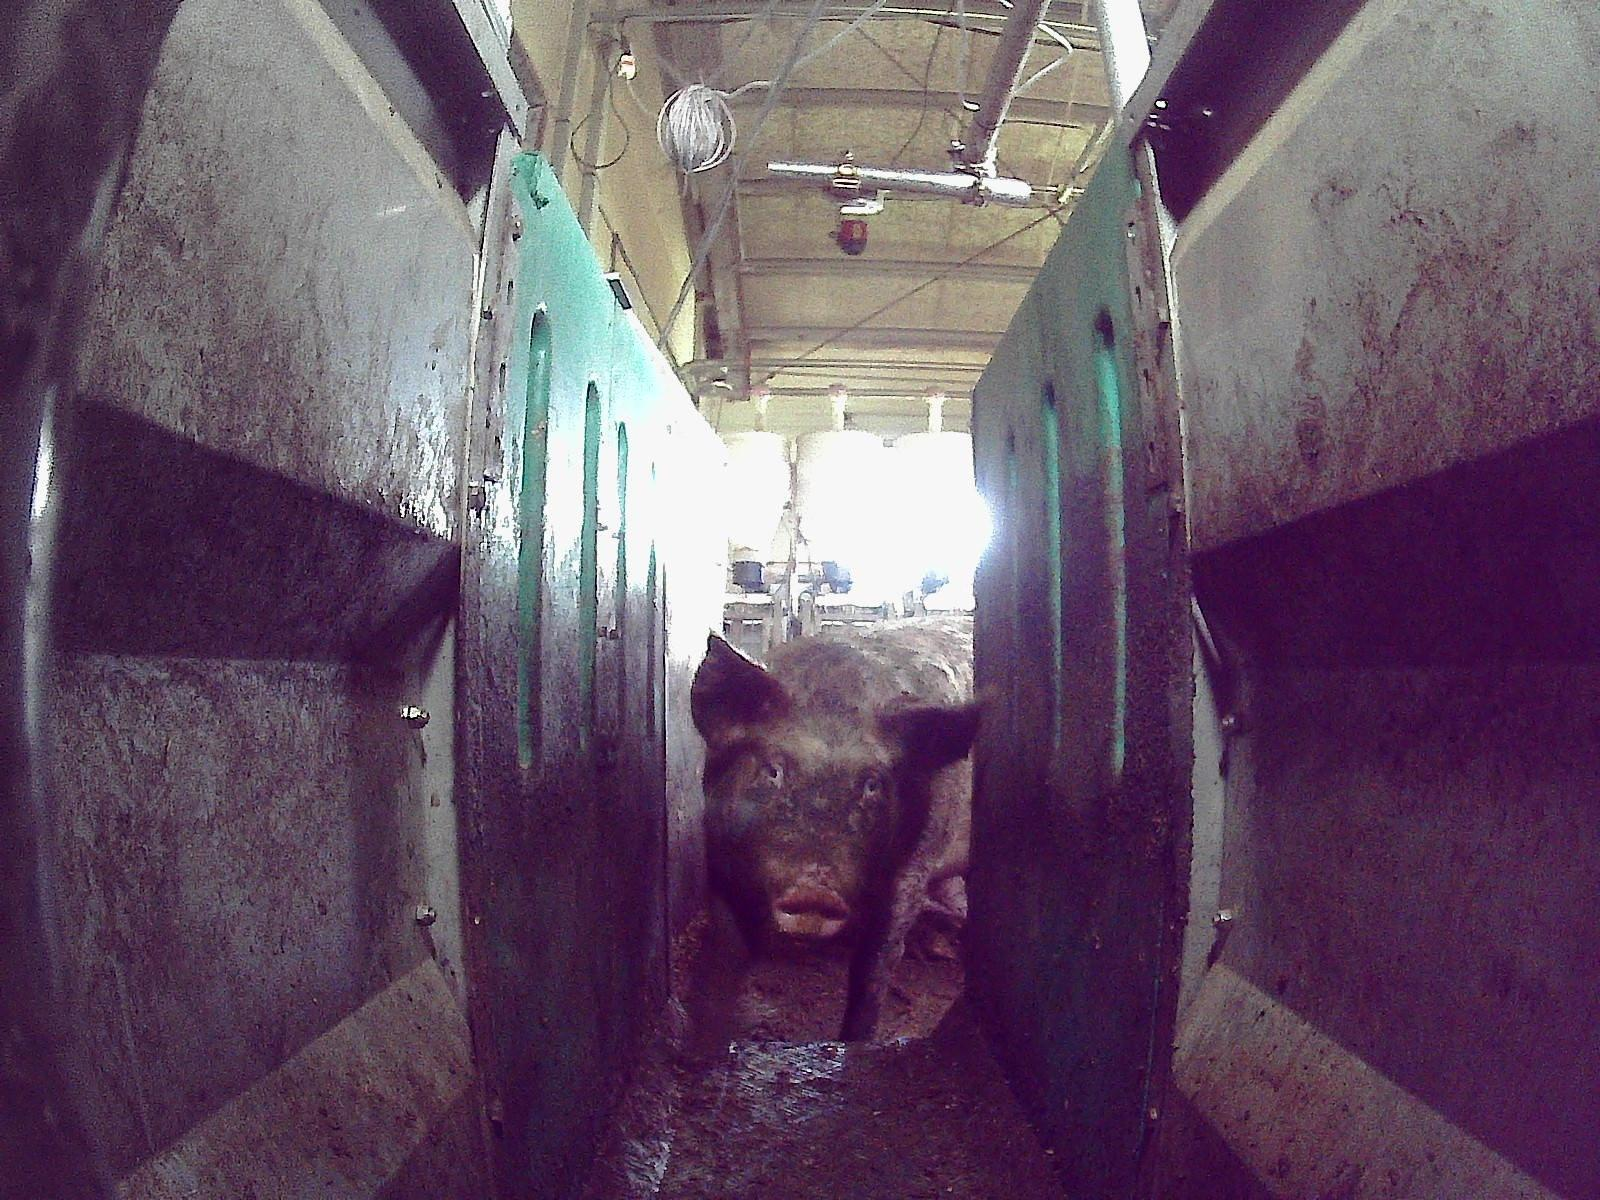Face: (731, 713, 909, 941)
